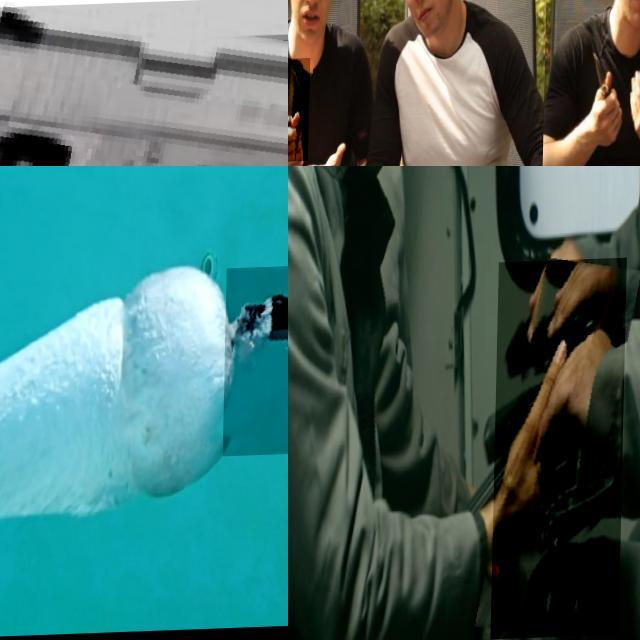-: (586, 44, 626, 140), (288, 58, 311, 162)
gun-knife-thesis - v11 Yolov5 augmented: (493, 261, 627, 640), (0, 0, 288, 166), (225, 266, 288, 459)
